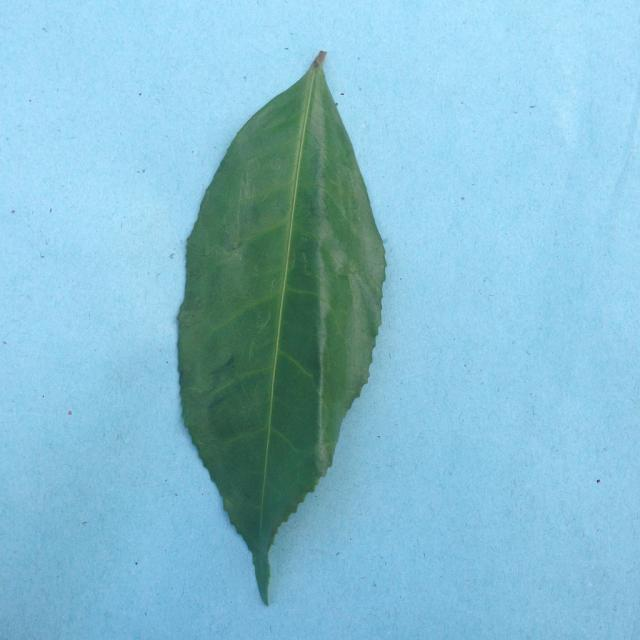Healthy: (138, 17, 416, 602)
